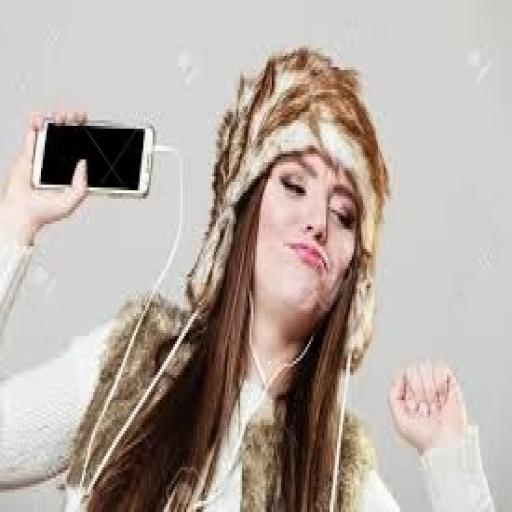listening_to_music: (0, 45, 499, 509)
